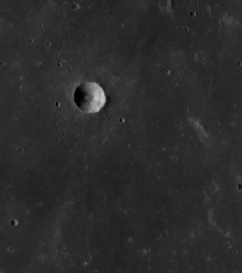crater: (68, 62, 114, 134), (108, 111, 139, 135)
